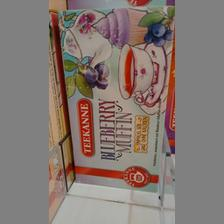Tee: (55, 4, 172, 192)
